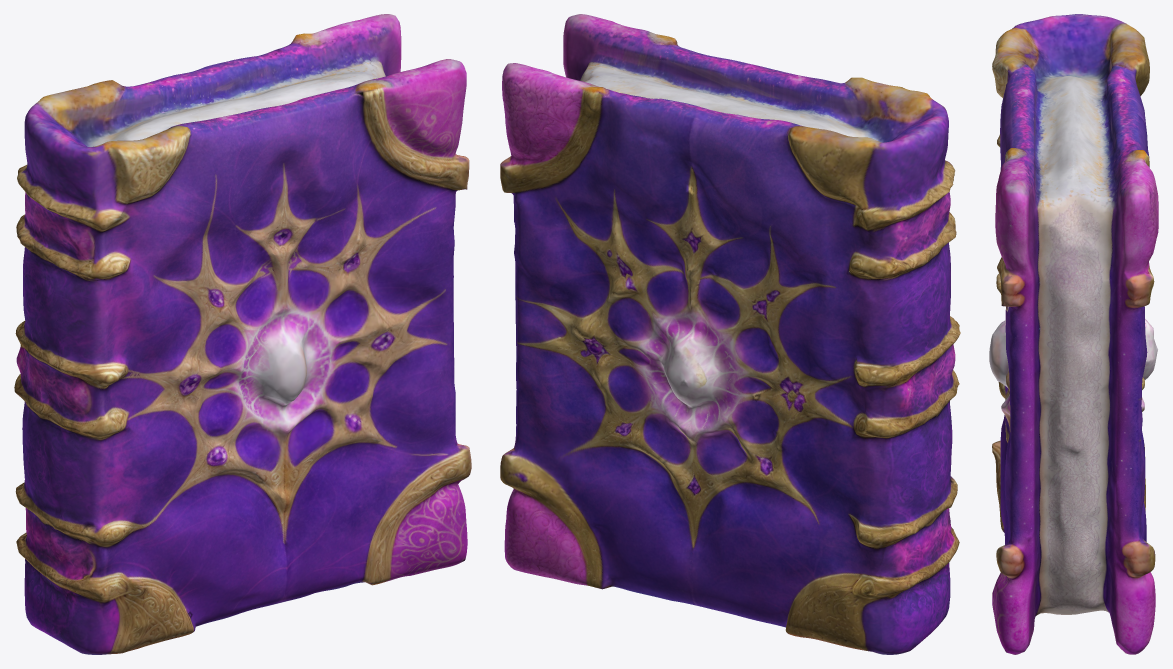
File: Air_elemental_magic_b_0613134245_.fbx
3 renders of one model, left to right at view 1: azimuth 30°, elevation 25°; view 2: azimuth 150°, elevation 25°; view 3: azimuth 270°, elevation 25°, orthographic. The views are drawn at different scales.
Visible parts, largest first — view 1: Mesh_0; view 2: Mesh_0; view 3: Mesh_0.
Boxes of the visible parts, x1,y1,x2,y2 form: Mesh_0: (14,14,471,654); Mesh_0: (500,14,960,654); Mesh_0: (989,14,1158,654).
Bounding box in the file's own units: 98.26 × 120 × 38.57.
1 material, 1 textured.
